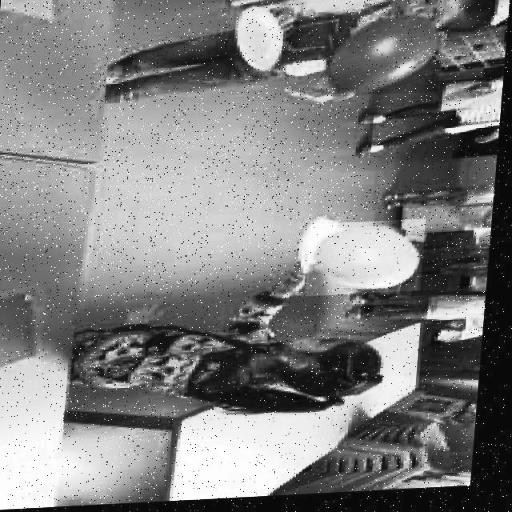balloon: (322, 15, 444, 101), (310, 224, 430, 300)
